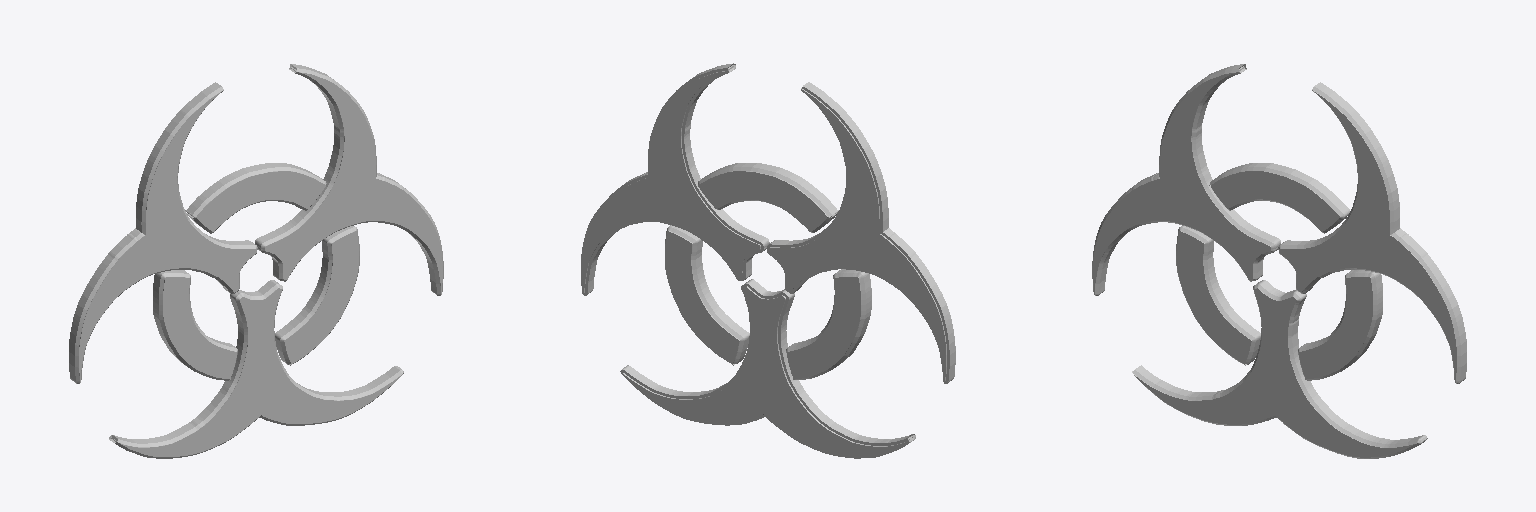
File: toxic.obj
3 renders of one model, left to right at view 1: azimuth 30°, elevation 25°; view 2: azimuth 150°, elevation 25°; view 3: azimuth 330°, elevation 25°, orthographic.
Visible parts, largest first — view 1: BioHazard_Logo; view 2: BioHazard_Logo; view 3: BioHazard_Logo.
Boxes of the visible parts, <box> form: BioHazard_Logo: <box>69,64,443,458</box>; BioHazard_Logo: <box>581,63,955,458</box>; BioHazard_Logo: <box>1092,64,1466,458</box>.
Bounding box in the file's own units: 1.56 × 1.47 × 0.0727.